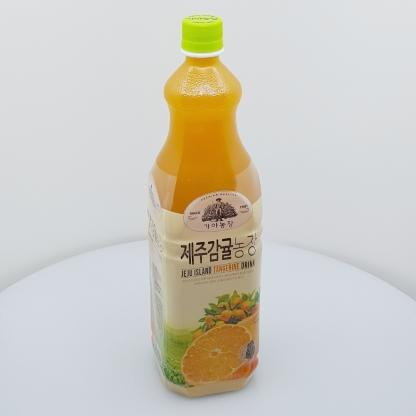------------1-5L: (146, 14, 263, 398)
